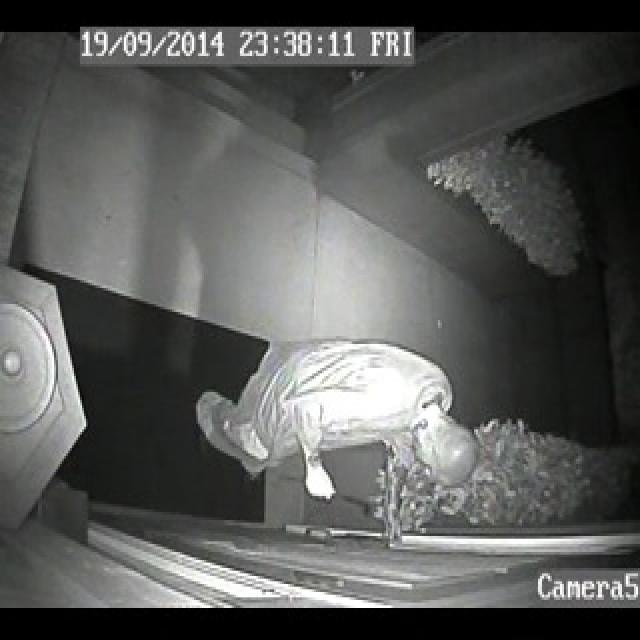thief: (198, 333, 482, 528)
